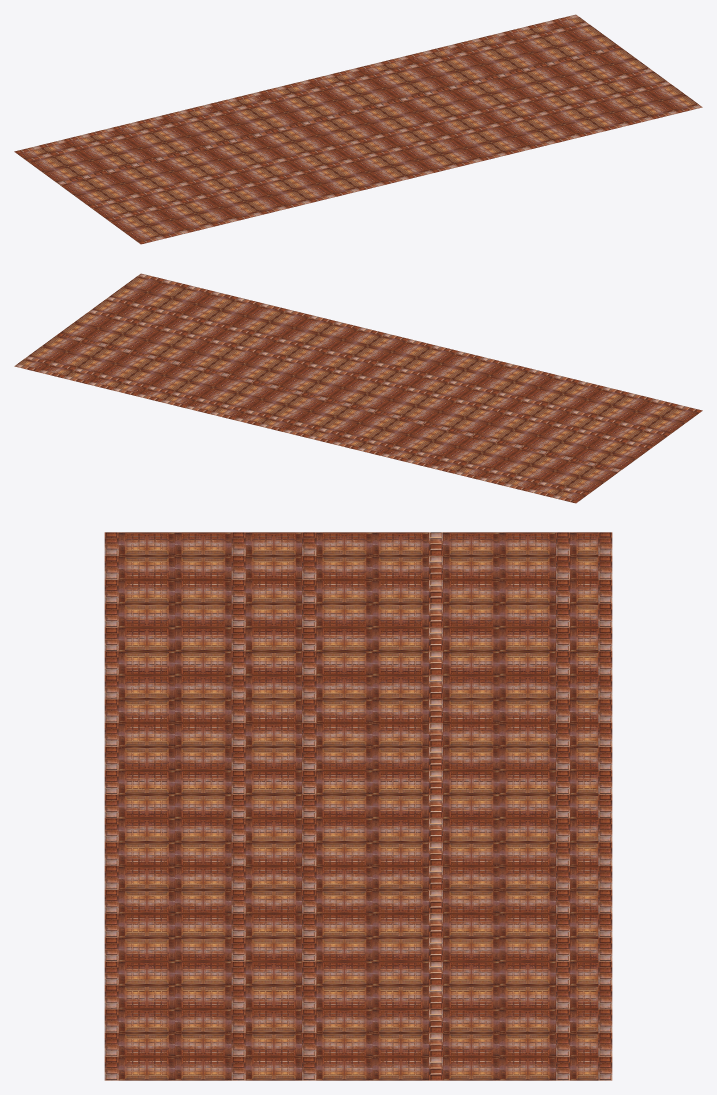
Rendered from env_platform_room_01_ceiling.FBX.
3 renders of one model, top to bottom at view 1: azimuth 30°, elevation 25°; view 2: azimuth 150°, elevation 25°; view 3: azimuth 270°, elevation 25°, orthographic. The views are drawn at different scales.
Parts seen in each view (by area): view 1: env_platform_room_01_ceiling; view 2: env_platform_room_01_ceiling; view 3: env_platform_room_01_ceiling.
Boxes of the visible parts, bbox=[...] form: env_platform_room_01_ceiling: bbox=[14, 14, 702, 244]; env_platform_room_01_ceiling: bbox=[14, 273, 702, 503]; env_platform_room_01_ceiling: bbox=[104, 532, 612, 1080].
Bounding box in the file's own units: 1811 × 0.7883 × 709.
1 material, 1 textured.
